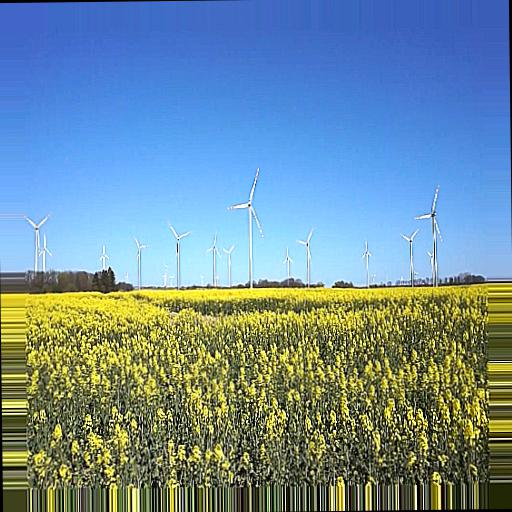wind turbine: (224, 166, 265, 287), (412, 184, 445, 283), (21, 211, 48, 278), (165, 223, 191, 290), (295, 227, 317, 289), (400, 229, 423, 283), (131, 233, 150, 289), (204, 232, 223, 286), (358, 240, 378, 287), (281, 248, 295, 285)
